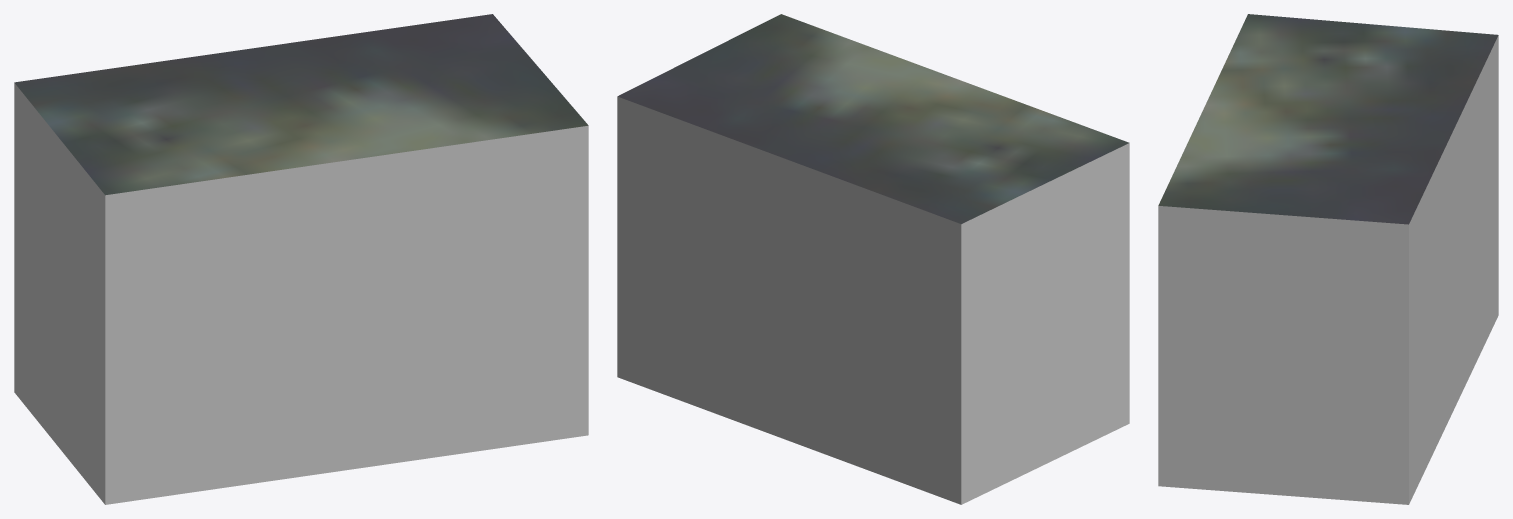
File: DEBW_0010007TxaL.gltf
3 views of the same model, side by side, from view 1: azimuth 30°, elevation 25°; view 2: azimuth 150°, elevation 25°; view 3: azimuth 270°, elevation 25° (orthographic). The views are drawn at different scales.
Parts seen in each view (by area): view 1: Z_UP; view 2: Z_UP; view 3: Z_UP.
Boxes of the visible parts, box(x1,y1,x2,y2) form: Z_UP: box(14, 14, 588, 504); Z_UP: box(617, 14, 1129, 504); Z_UP: box(1158, 14, 1498, 504).
Size of the model in its own units: 4.83 by 3 by 3.3.
Materials: 2 (1 with a texture image).
